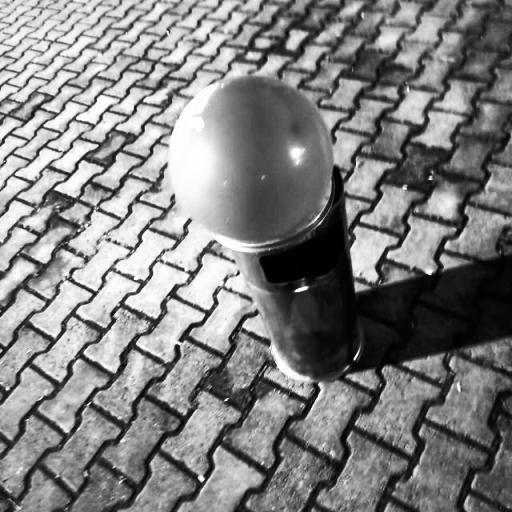balloon: (166, 72, 335, 244)
